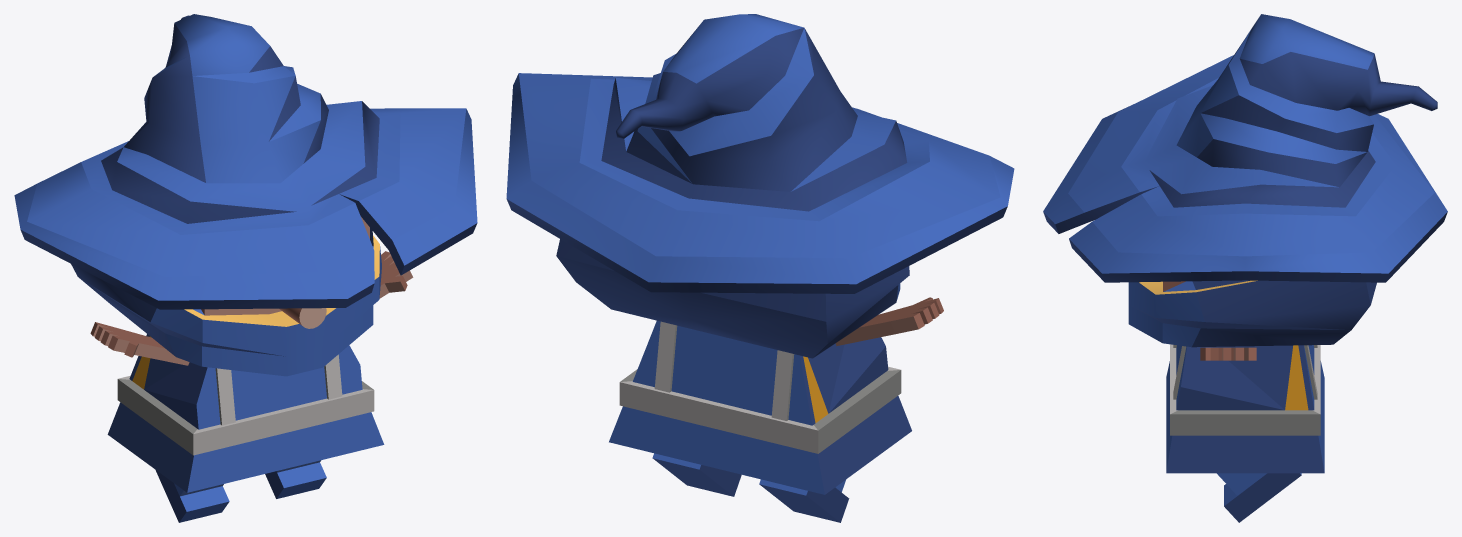
File: Ch_240@Down.FBX
The picture shows the model from 3 angles, left to right: view 1: azimuth 30°, elevation 25°; view 2: azimuth 150°, elevation 25°; view 3: azimuth 270°, elevation 25°; orthographic projection. The views are drawn at different scales.
Parts seen in each view (by area): view 1: Ch_240_Head, Ch_240, Ch_240_Leg_L, Ch_240_Arm_L, Ch_240_Leg_R, Ch_240_Arm_R; view 2: Ch_240_Head, Ch_240, Ch_240_Arm_L, Ch_240_Leg_L, Ch_240_Leg_R; view 3: Ch_240_Head, Ch_240, Ch_240_Leg_R, Ch_240_Arm_R.
Part boxes in pixels (x1,y1,x2,y2): Ch_240_Head: (14,14,477,376); Ch_240: (107,334,384,492); Ch_240_Leg_L: (155,470,229,522); Ch_240_Arm_L: (90,322,189,365); Ch_240_Leg_R: (265,460,326,498); Ch_240_Arm_R: (379,251,413,298); Ch_240_Head: (506,14,1014,358); Ch_240: (609,320,911,494); Ch_240_Arm_L: (835,297,943,346); Ch_240_Leg_L: (759,479,849,522); Ch_240_Leg_R: (652,453,741,496); Ch_240_Head: (1043,14,1447,347); Ch_240: (1166,344,1324,473); Ch_240_Leg_R: (1217,473,1301,522); Ch_240_Arm_R: (1200,347,1256,360).
Size of the model in its own units: 13.03 by 12.77 by 10.19.
